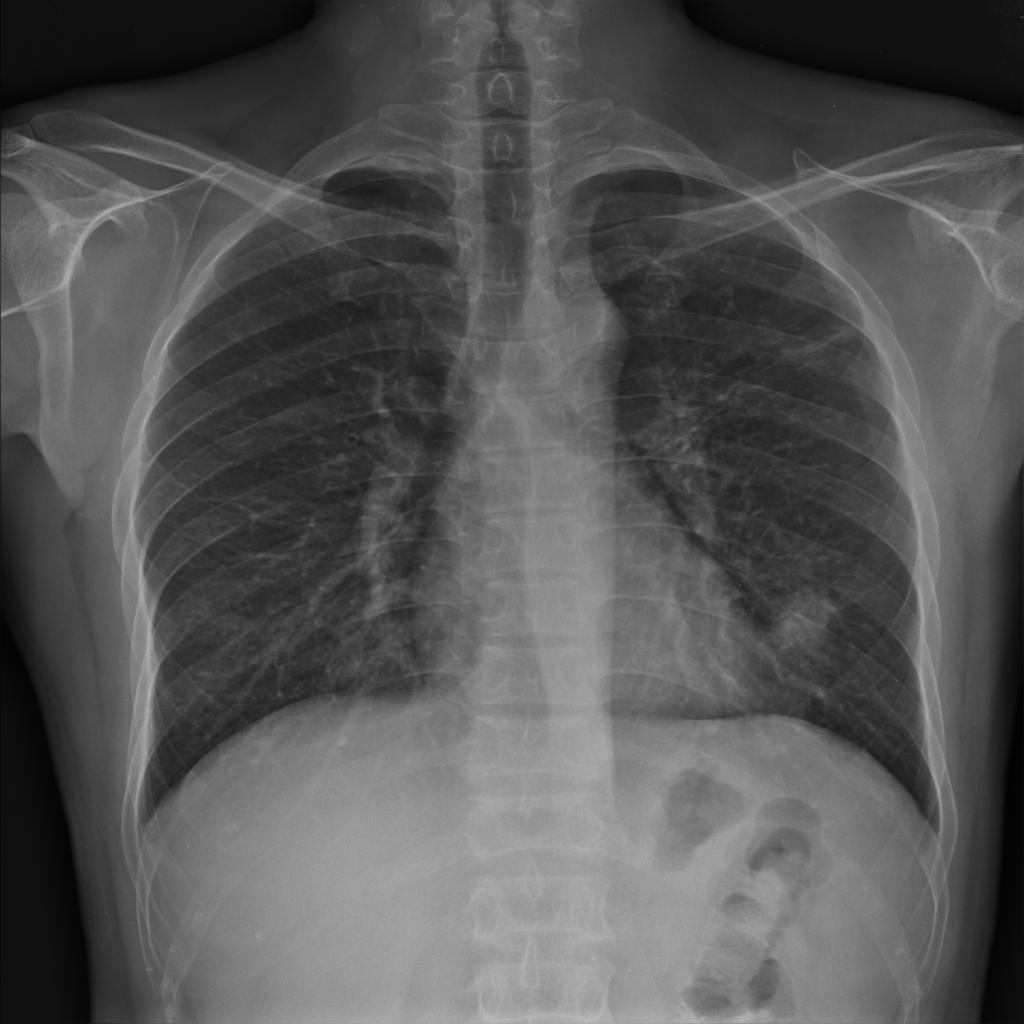Nodule: (770, 578, 837, 650)
